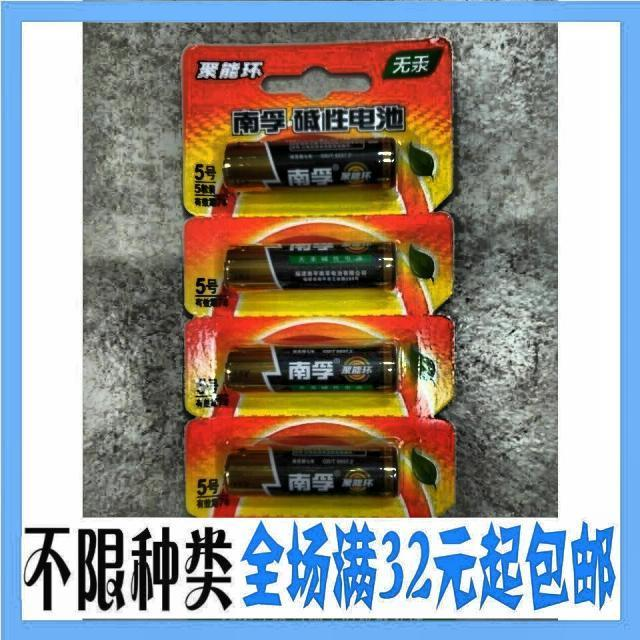battery: (224, 139, 396, 188), (225, 448, 398, 496), (225, 242, 396, 289), (225, 346, 398, 392)
